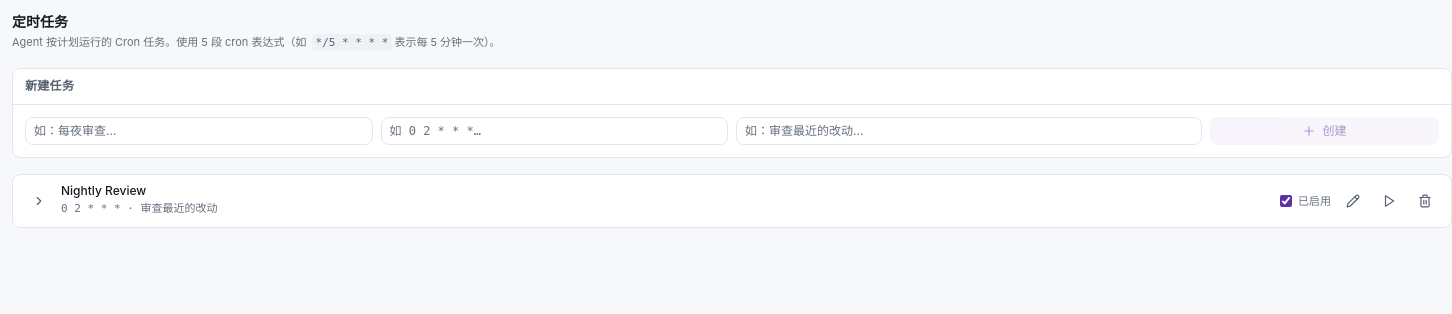
Test: ScheduledTab editing (P2-5) › saves by creating the new job then deleting the old one
Expected: the list item with test id "settings-job-row-job_1" is shown, x1=12 y1=174 x2=1451 y2=228
Click the button with test id "settings-job-edit-job_1": click(1353, 200) x1=1339 y1=186 x2=1367 y2=214
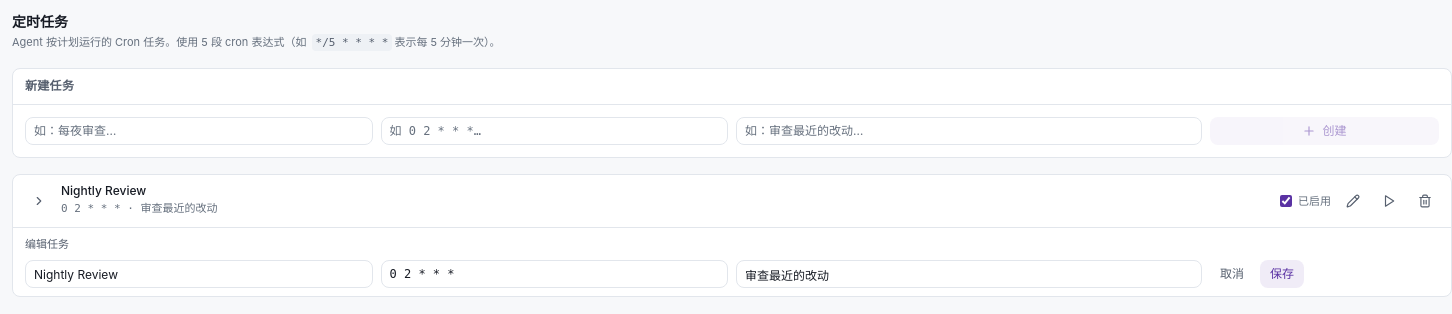
Replace the text in the field with test id "settings-job-edit-name" with "Morning Review": (199, 274) x1=25 y1=260 x2=372 y2=288
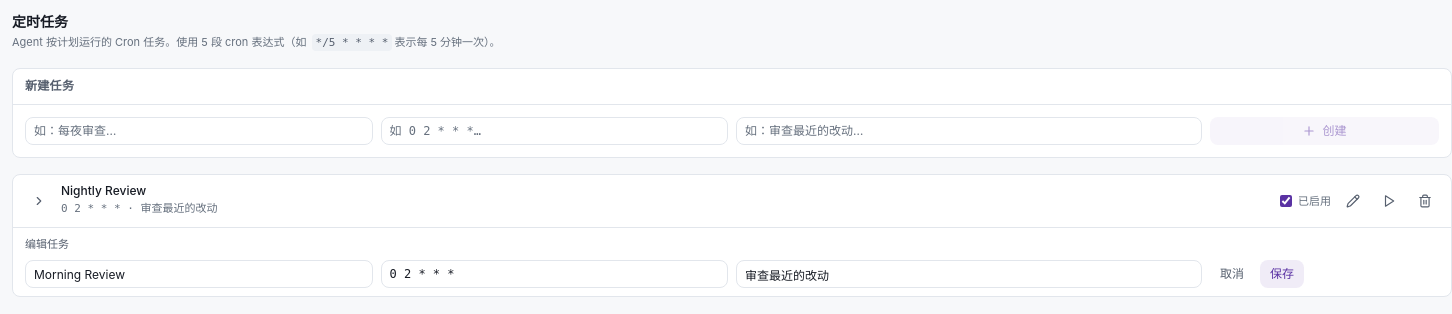
Replace the text in the field with test id "settings-job-edit-cron" with "30 7 * * *": (554, 274) x1=380 y1=260 x2=728 y2=288
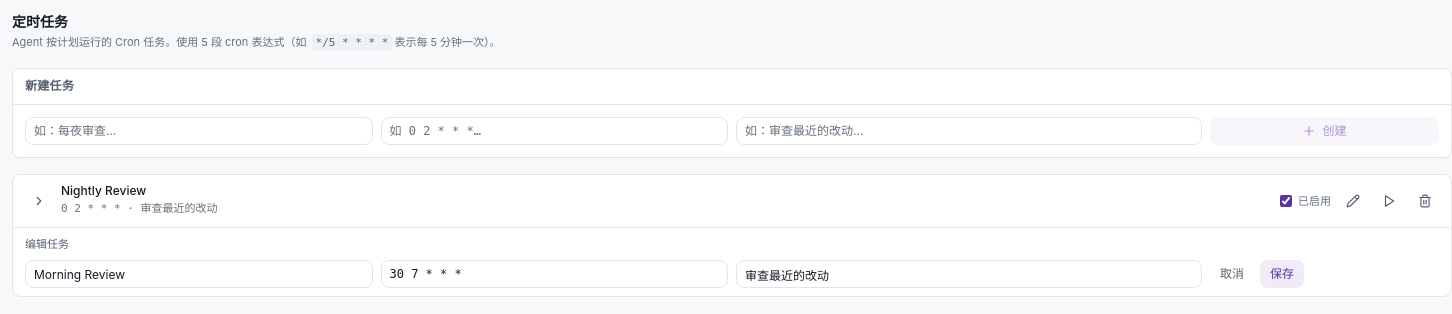
Click the button with test id "settings-job-edit-save": click(1282, 274) x1=1260 y1=260 x2=1304 y2=288
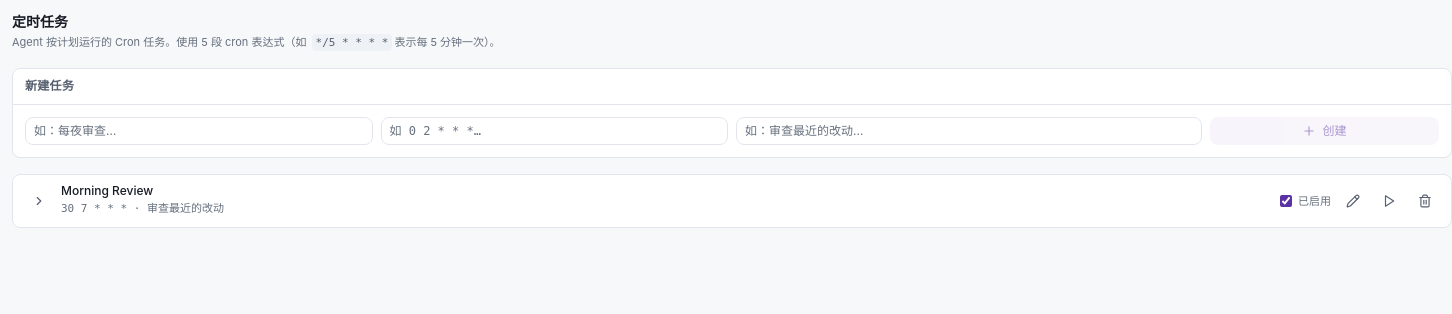
Result: the text "Morning Review" is shown at x1=61 y1=182 x2=153 y2=198
Result: the element with test id "settings-job-edit-form-job_1" is gone
